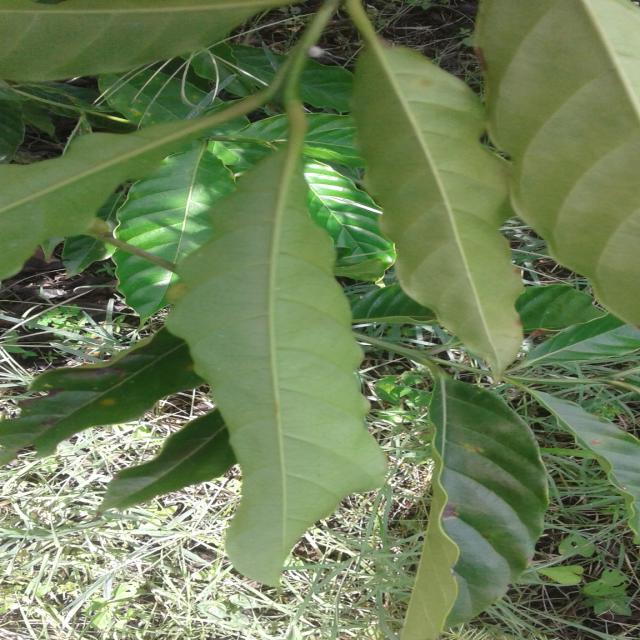Sanas: (162, 102, 387, 590)
